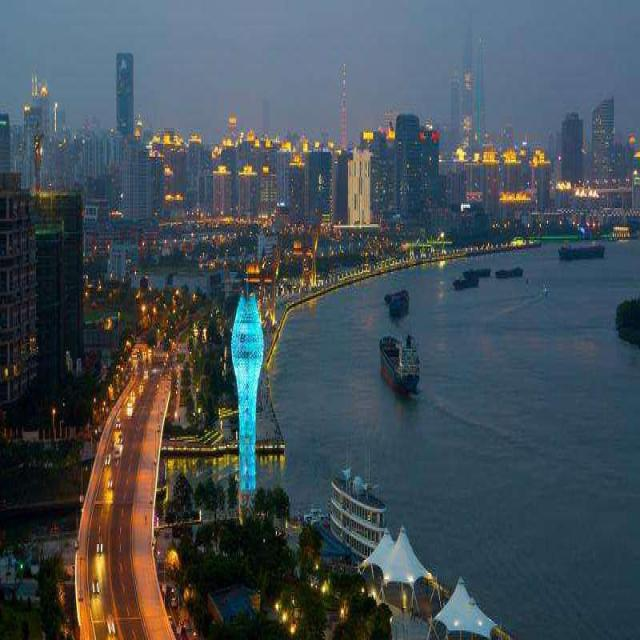other: (144, 106, 314, 198), (437, 133, 605, 210), (95, 382, 127, 621), (104, 284, 185, 366)
